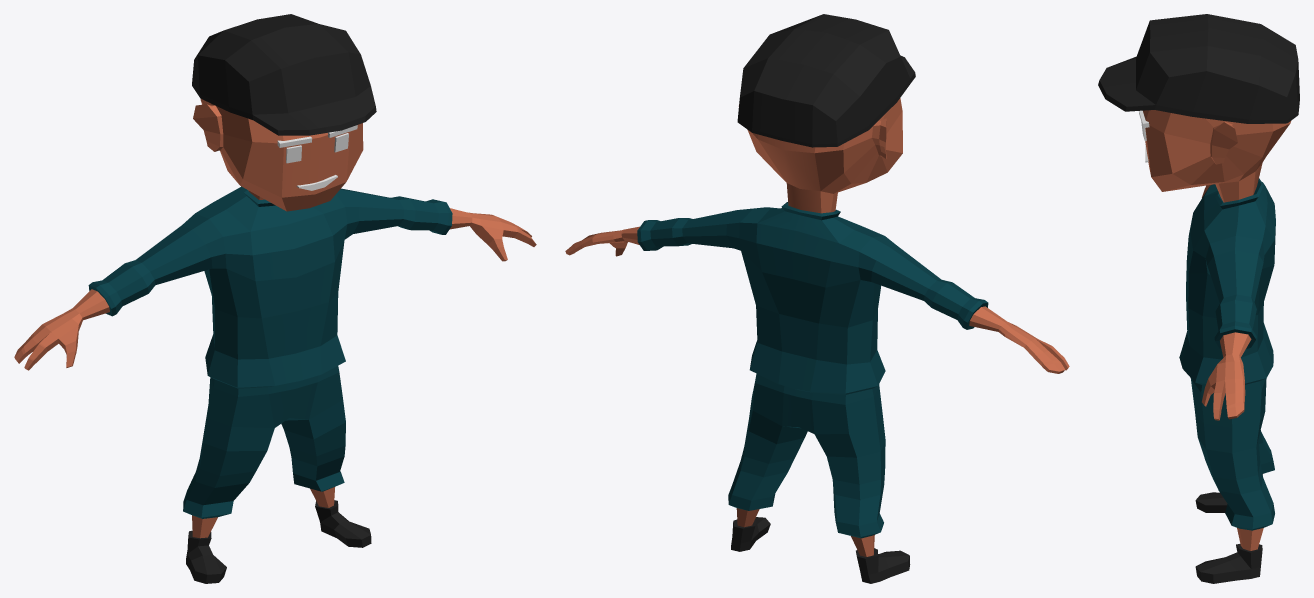
The model's file is karakter.FBX.
3 views of the same model, side by side, from view 1: azimuth 30°, elevation 25°; view 2: azimuth 150°, elevation 25°; view 3: azimuth 270°, elevation 25° (orthographic). The views are drawn at different scales.
Parts seen in each view (by area): view 1: Object001, Box002, Object002, Sphere001, Object003, Object004, Box001; view 2: Object001, Box002, Object002, Sphere001, Object003, Object004, Box001; view 3: Box002, Object001, Sphere001, Object002, Object003, Object004, Box001.
Part boxes in pixels (bbox=[...]): Object001: bbox=[88, 186, 452, 388]; Box002: bbox=[192, 14, 376, 135]; Object002: bbox=[183, 366, 345, 518]; Sphere001: bbox=[193, 99, 363, 211]; Object003: bbox=[14, 208, 536, 370]; Object004: bbox=[186, 500, 371, 583]; Box001: bbox=[192, 487, 334, 538]; Object001: bbox=[637, 202, 988, 394]; Box002: bbox=[737, 14, 915, 147]; Object002: bbox=[728, 373, 885, 538]; Sphere001: bbox=[738, 98, 902, 213]; Object003: bbox=[565, 226, 1069, 373]; Object004: bbox=[731, 517, 910, 583]; Box001: bbox=[736, 508, 874, 556]; Box002: bbox=[1098, 14, 1299, 123]; Object001: bbox=[1179, 178, 1275, 385]; Sphere001: bbox=[1143, 110, 1290, 202]; Object002: bbox=[1190, 378, 1274, 530]; Object003: bbox=[1202, 184, 1251, 420]; Object004: bbox=[1195, 492, 1262, 583]; Box001: bbox=[1237, 474, 1263, 550].
Bounding box in the file's own units: 124 × 123 × 43.62.
